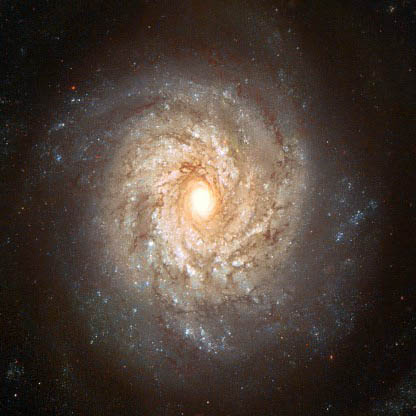NGC 3982: (36, 39, 346, 381)
